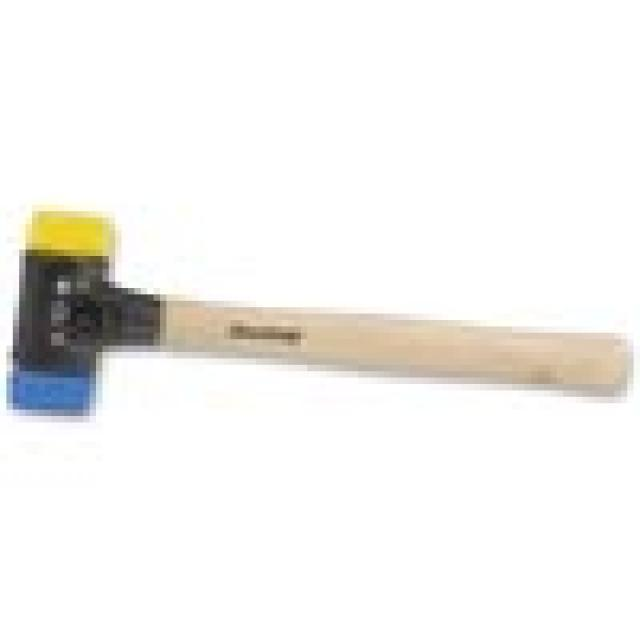hammer: (0, 196, 640, 454)
